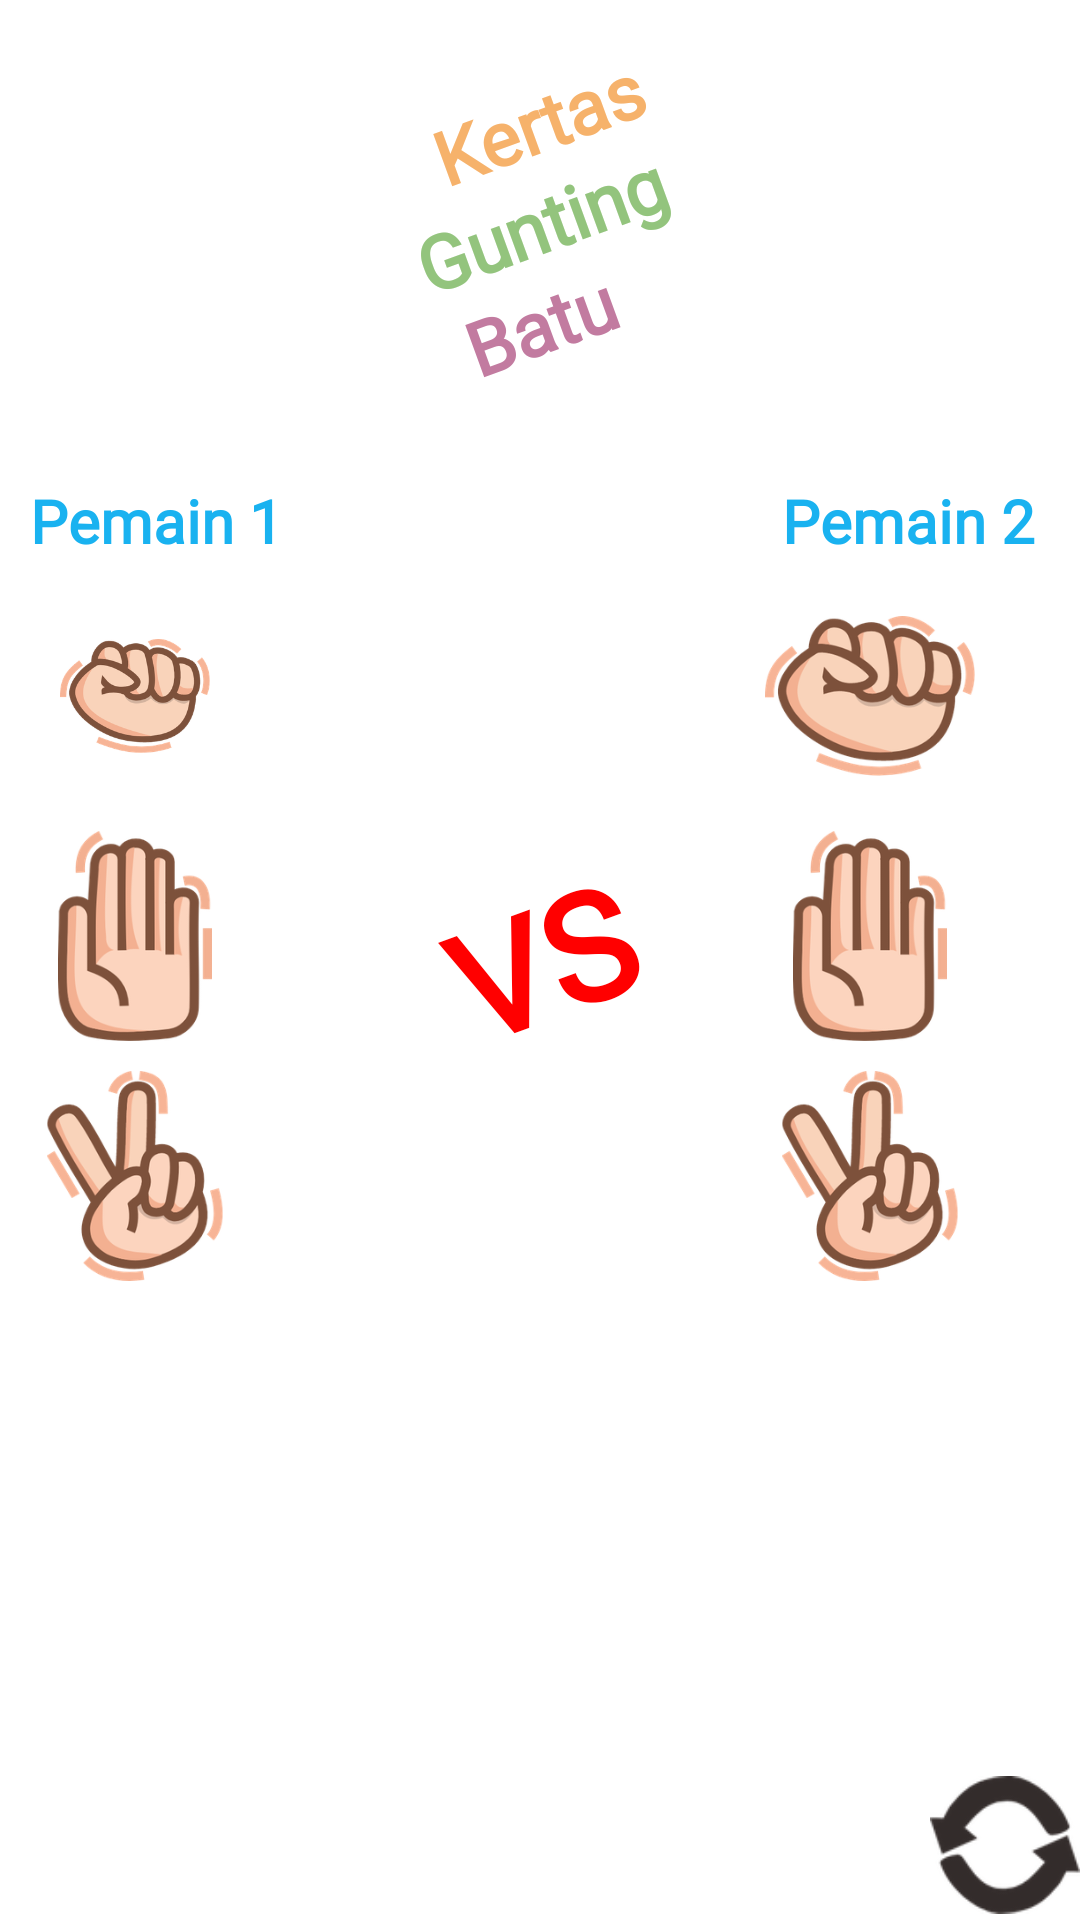

Named icons in this screenshot (1080×1920) and their bounding boxes, (x1, y1, x2, y2):
batu: (765, 616, 975, 776), (60, 639, 210, 753)
gunting: (47, 1071, 223, 1281), (782, 1071, 958, 1281)
kertas: (58, 831, 212, 1041), (793, 831, 947, 1041)
refresh: (930, 1776, 1080, 1914)
